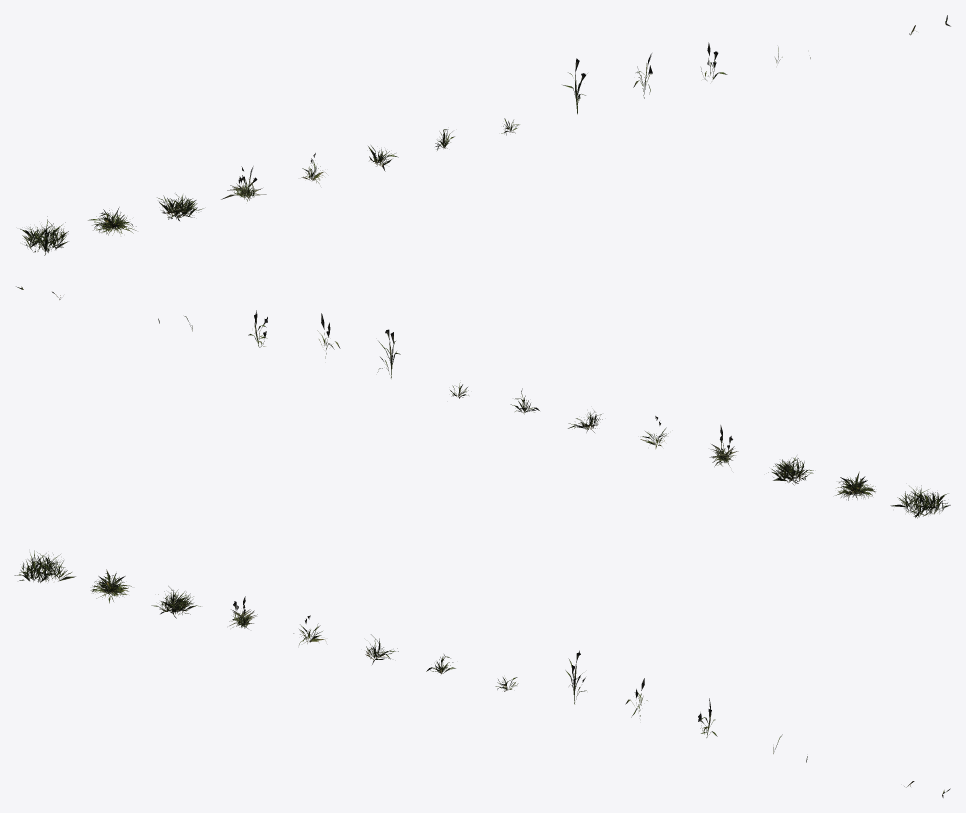
Rendered from grass_medium_01.glb.
The picture shows the model from 3 angles, top to bottom: view 1: azimuth 30°, elevation 25°; view 2: azimuth 150°, elevation 25°; view 3: azimuth 330°, elevation 25°; orthographic projection.
Parts seen in each view (by area): view 1: grass_medium_01_small_a_LOD0; view 2: grass_medium_01_small_a_LOD0; view 3: grass_medium_01_small_a_LOD0.
Part boxes in pixels (bbox=[...]): grass_medium_01_small_a_LOD0: bbox=[20, 15, 950, 255]; grass_medium_01_small_a_LOD0: bbox=[16, 286, 950, 518]; grass_medium_01_small_a_LOD0: bbox=[14, 550, 950, 797].
Bounding box in the file's own units: 5.6 × 0.3389 × 0.3266.
Materials: 1 (1 with a texture image).
